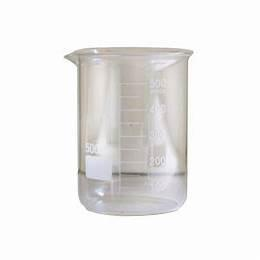Beaker: (54, 41, 198, 223)
